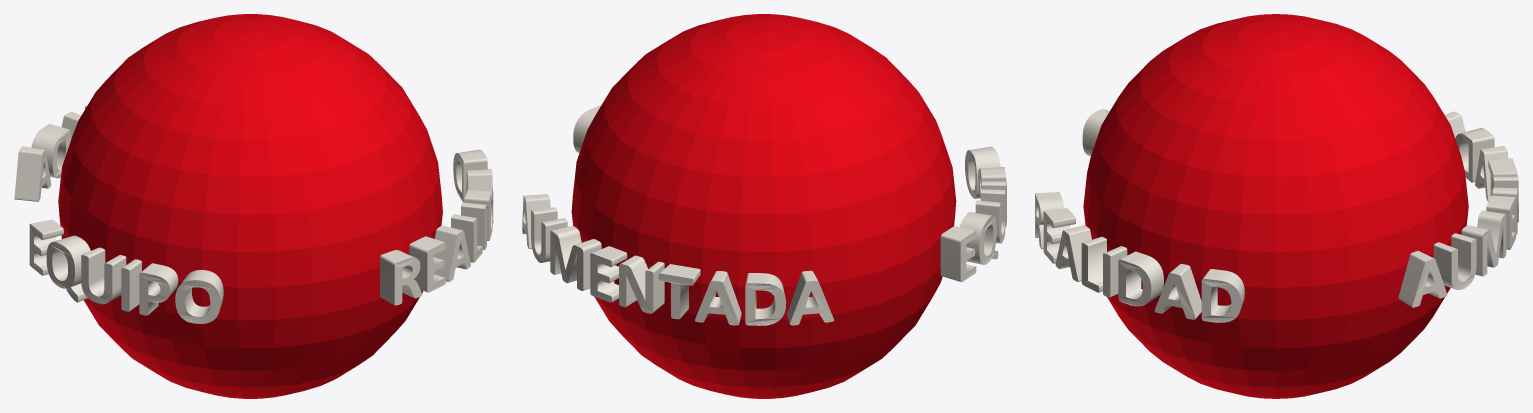
The model's file is EQUIPO EN TEXTO.fbx.
3 renders of one model, left to right at view 1: azimuth 30°, elevation 25°; view 2: azimuth 150°, elevation 25°; view 3: azimuth 270°, elevation 25°, orthographic.
Visible parts, largest first — view 1: Esfera, Texto; view 2: Esfera, Texto; view 3: Esfera, Texto.
Boxes of the visible parts, x1,y1,x2,y2 form: Esfera: [58, 14, 442, 398]; Texto: [14, 105, 493, 323]; Esfera: [571, 14, 956, 398]; Texto: [522, 105, 1006, 325]; Esfera: [1083, 14, 1468, 398]; Texto: [1035, 109, 1518, 322].
Size of the model in its own units: 580 by 462 by 581.
